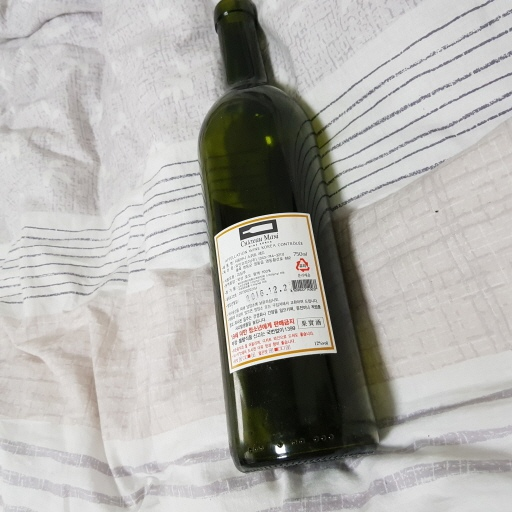Glass_2: (194, 1, 380, 468)
